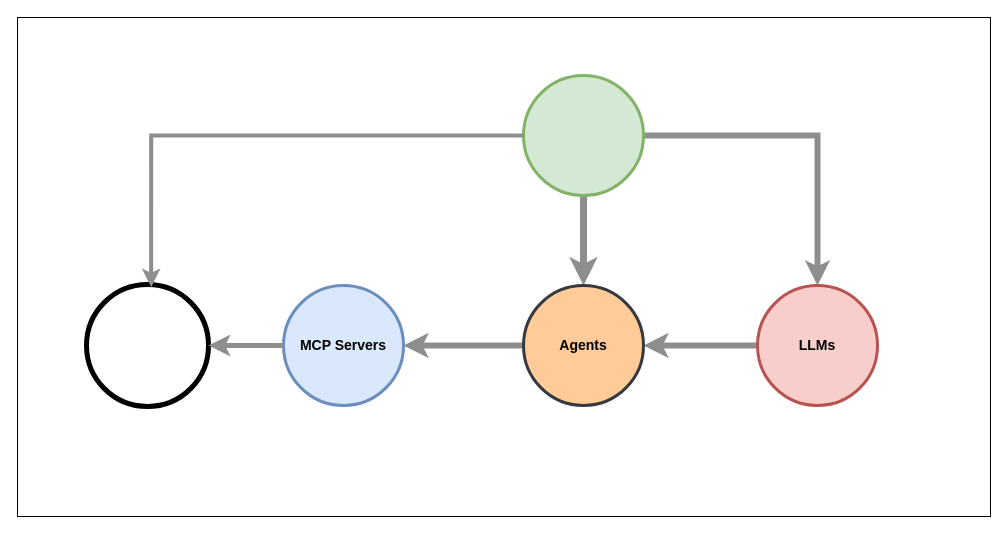
Image size: 1008x534. Some labels were removed from this diagram. The shapes that lost their labels are listed below. From the top down, each one's centre as x and y in pixels, then its label:
the point at 583,135: New System
the point at 147,345: Legacy Knowledge
